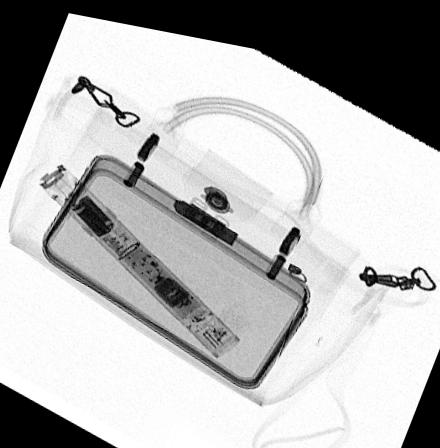Baton: (38, 161, 241, 349)
